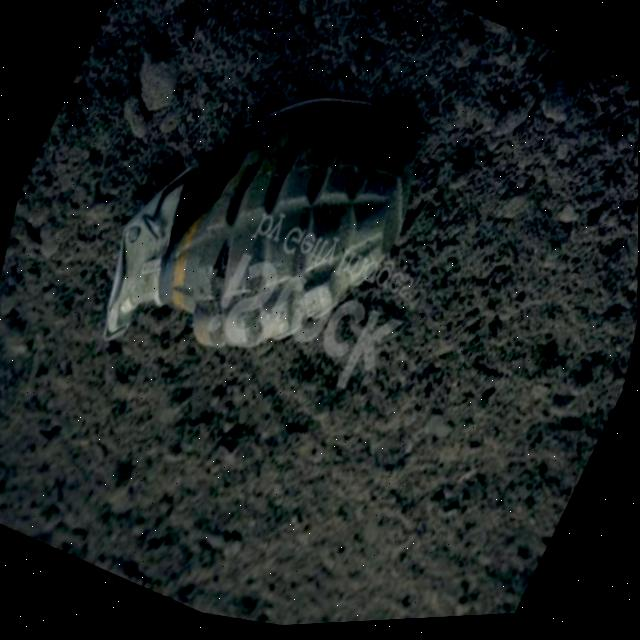grenade: (54, 6, 471, 464)
